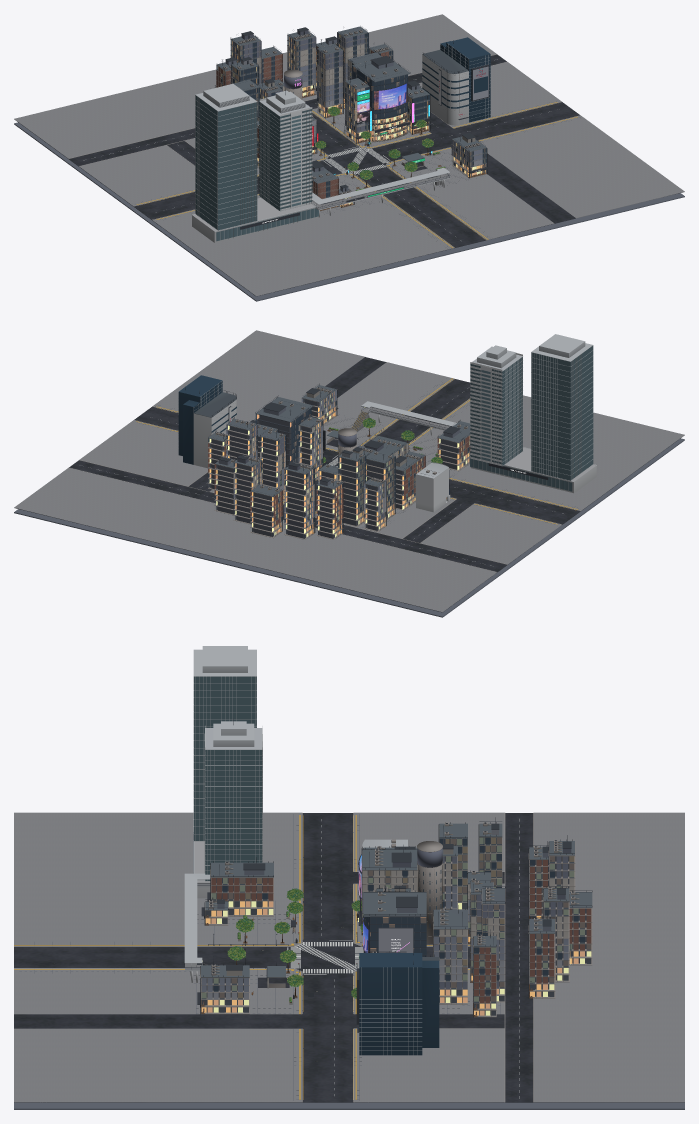
The model's file is crossing.glb.
3 renders of one model, top to bottom at view 1: azimuth 30°, elevation 25°; view 2: azimuth 150°, elevation 25°; view 3: azimuth 270°, elevation 25°, orthographic. The views are drawn at different scales.
Parts seen in each view (by area): view 1: District paving, Mark City blue gray glass, District asphalt, Landmark silver aluminum, Landmark white ceramic, Glazing smoked curtain wall, Charcoal architectural metal, Slate concrete, Zinc roof panels, Rain-dark asphalt, Warm concrete, Pavement stone (+18 smaller); view 2: District paving, Slate concrete, Mark City blue gray glass, District asphalt, Landmark silver aluminum, Warm concrete, Landmark white ceramic, Zinc roof panels, Glazing smoked curtain wall, Charcoal architectural metal, Dark reflective glass, Champagne aluminum (+15 smaller); view 3: District paving, District asphalt, Mark City blue gray glass, Landmark silver aluminum, Slate concrete, Warm concrete, Dark reflective glass, Rain-dark asphalt, Zinc roof panels, Glazing smoked curtain wall, Pavement stone, Charcoal architectural metal (+15 smaller).
Boxes of the visible parts, x1,y1,x2,y2 form: District paving: [14, 14, 684, 296]; Mark City blue gray glass: [195, 95, 318, 241]; District asphalt: [14, 54, 683, 296]; Landmark silver aluminum: [192, 43, 490, 242]; Landmark white ceramic: [192, 54, 468, 242]; Glazing smoked curtain wall: [216, 33, 486, 197]; Charcoal architectural metal: [162, 27, 489, 229]; Slate concrete: [14, 51, 684, 301]; Zinc roof panels: [216, 26, 486, 194]; Rain-dark asphalt: [317, 121, 449, 200]; Warm concrete: [216, 30, 486, 211]; Pavement stone: [257, 116, 489, 216]; District paving: [14, 330, 684, 612]; Slate concrete: [14, 381, 684, 617]; Mark City blue gray glass: [470, 345, 593, 491]; District asphalt: [16, 357, 684, 612]; Landmark silver aluminum: [193, 334, 596, 492]; Warm concrete: [208, 387, 470, 539]; Landmark white ceramic: [193, 353, 596, 512]; Zinc roof panels: [194, 385, 470, 496]; Glazing smoked curtain wall: [208, 393, 470, 528]; Charcoal architectural metal: [173, 383, 548, 532]; Dark reflective glass: [178, 375, 352, 464]; Champagne aluminum: [215, 390, 469, 537]; District paving: [14, 812, 684, 1102]; District asphalt: [14, 813, 684, 1102]; Mark City blue gray glass: [194, 676, 262, 880]; Landmark silver aluminum: [184, 646, 439, 1054]; Slate concrete: [14, 814, 684, 1109]; Warm concrete: [201, 822, 592, 1017]; Dark reflective glass: [359, 870, 441, 1055]; Rain-dark asphalt: [197, 901, 432, 1014]; Zinc roof panels: [201, 823, 592, 977]; Glazing smoked curtain wall: [201, 837, 591, 1002]; Pavement stone: [194, 900, 462, 1014]; Charcoal architectural metal: [139, 718, 592, 1075].
Bounding box in the file's own units: 240 × 75.57 × 235.
Materials: 61 (10 with a texture image).
